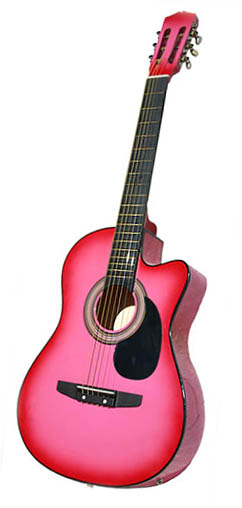guitar: (15, 9, 209, 491)
